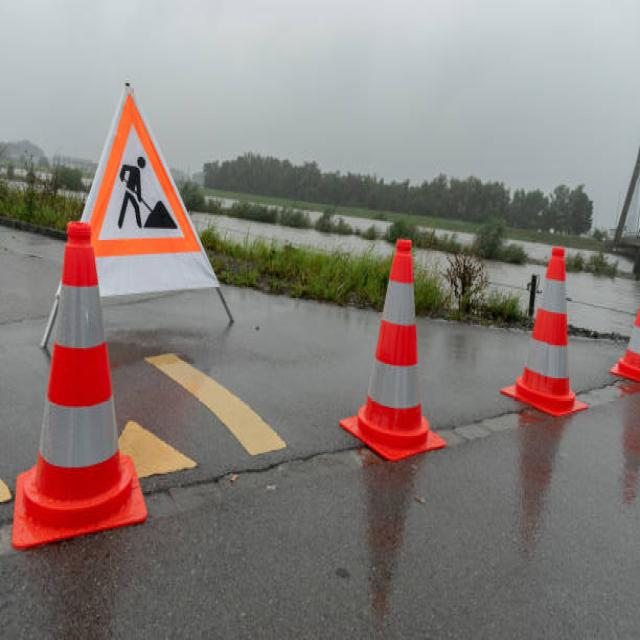Traffic Cone: (4, 209, 158, 554), (334, 192, 453, 479), (496, 211, 595, 448)
